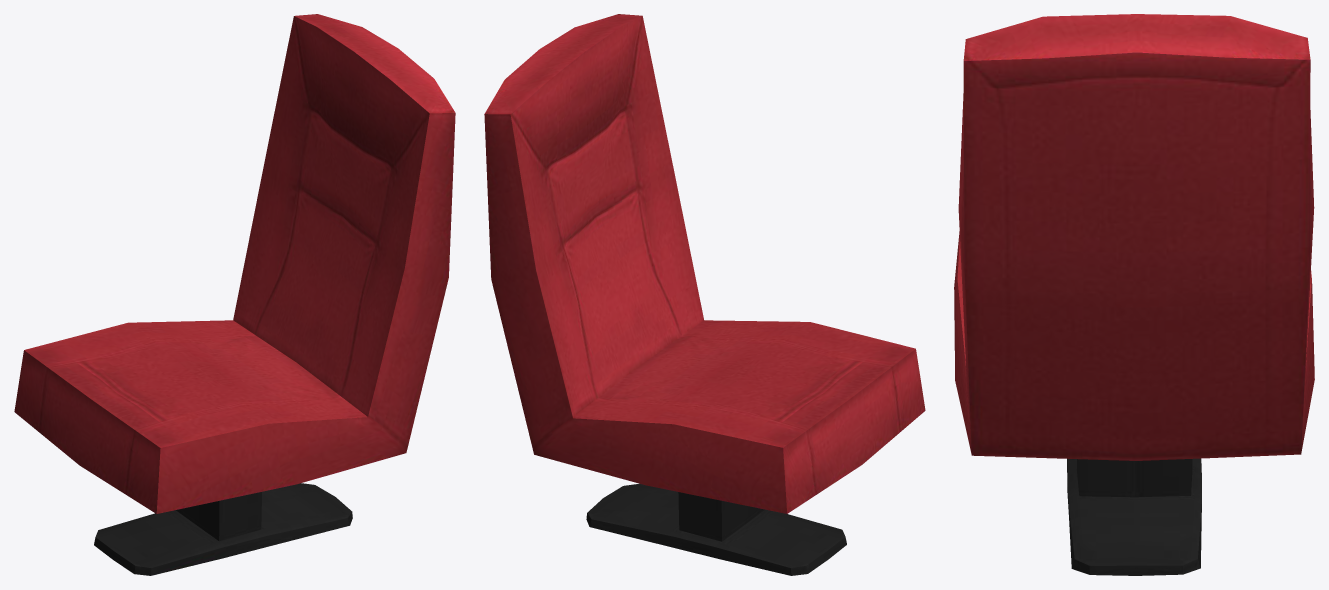
File: Cadeira_Nova.obj
3 renders of one model, left to right at view 1: azimuth 30°, elevation 25°; view 2: azimuth 150°, elevation 25°; view 3: azimuth 270°, elevation 25°, orthographic. The views are drawn at different scales.
Parts seen in each view (by area): view 1: Cadeira_Base.001; view 2: Cadeira_Base.001; view 3: Cadeira_Base.001.
Boxes of the visible parts, left/top/right/bottom form: Cadeira_Base.001: left=14, top=14, right=455, bottom=575; Cadeira_Base.001: left=484, top=14, right=925, bottom=575; Cadeira_Base.001: left=954, top=14, right=1314, bottom=575.
Size of the model in its own units: 0.352 by 0.4701 by 0.2682.
